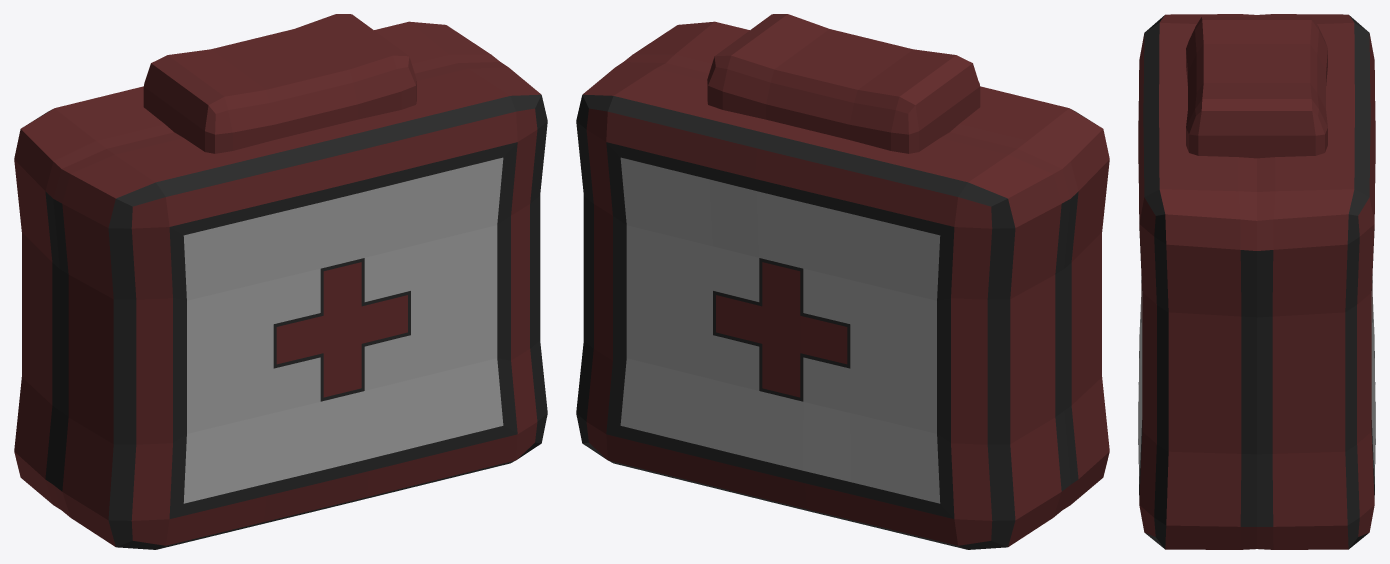
Rendered from first_aid_kit.glb.
The picture shows the model from 3 angles, left to right: view 1: azimuth 30°, elevation 25°; view 2: azimuth 150°, elevation 25°; view 3: azimuth 270°, elevation 25°; orthographic projection. The views are drawn at different scales.
Visible parts, largest first — view 1: first_aid_kit; view 2: first_aid_kit; view 3: first_aid_kit.
Boxes of the visible parts, x1,y1,x2,y2 form: first_aid_kit: (14,14,547,549); first_aid_kit: (576,14,1109,549); first_aid_kit: (1138,14,1375,549).
Bounding box in the file's own units: 0.32 × 0.2783 × 0.1501.
